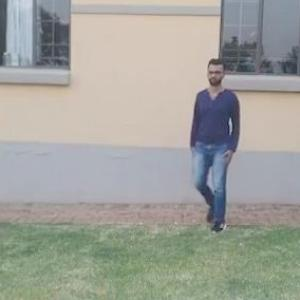follow: (190, 57, 240, 226)
